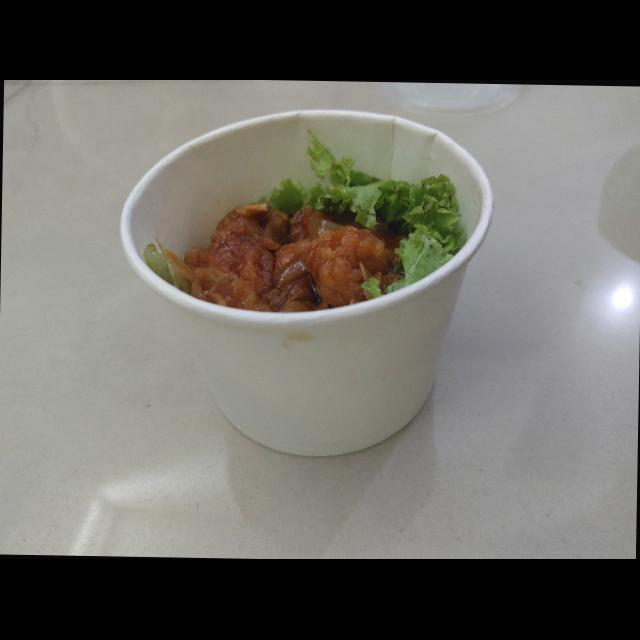rice-bowl: (100, 90, 510, 468)
